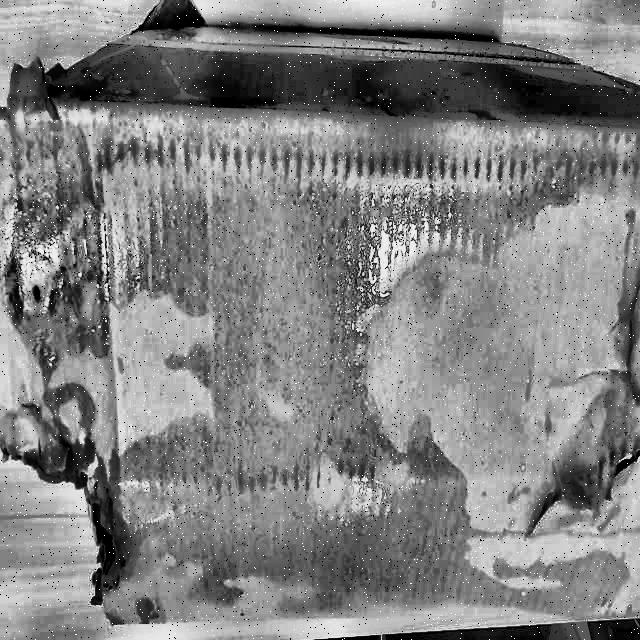box: (0, 15, 639, 635)
hole: (506, 443, 640, 549), (84, 497, 158, 617)
wet: (2, 105, 630, 620)
